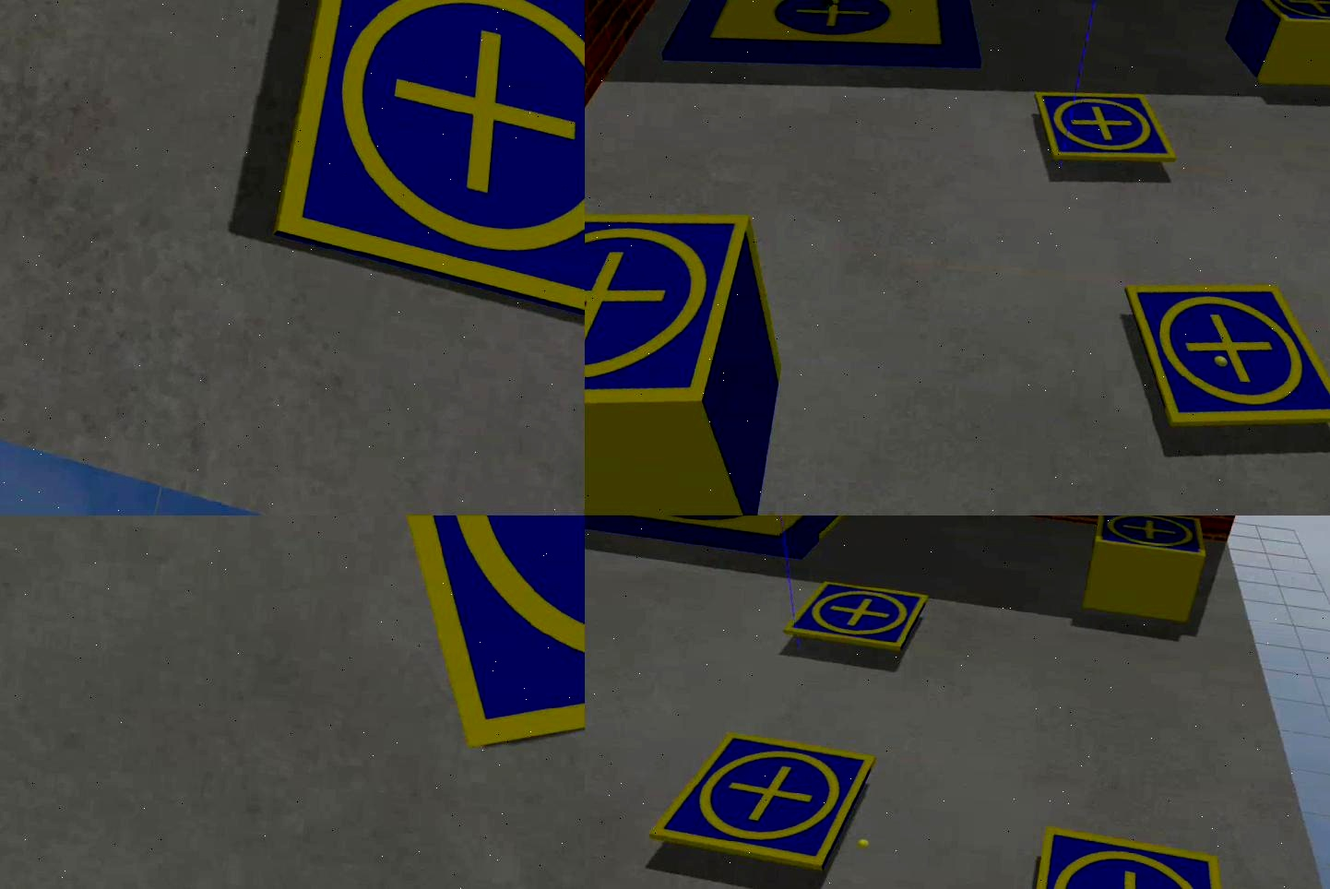large_base: (662, 1, 992, 89), (585, 516, 865, 567)
small_base: (268, 1, 585, 338), (286, 516, 585, 794), (585, 190, 756, 435), (1109, 267, 1330, 444), (647, 723, 877, 875), (1020, 823, 1255, 889), (1029, 84, 1182, 172), (786, 576, 931, 658), (1091, 516, 1208, 560), (1241, 1, 1330, 39)
